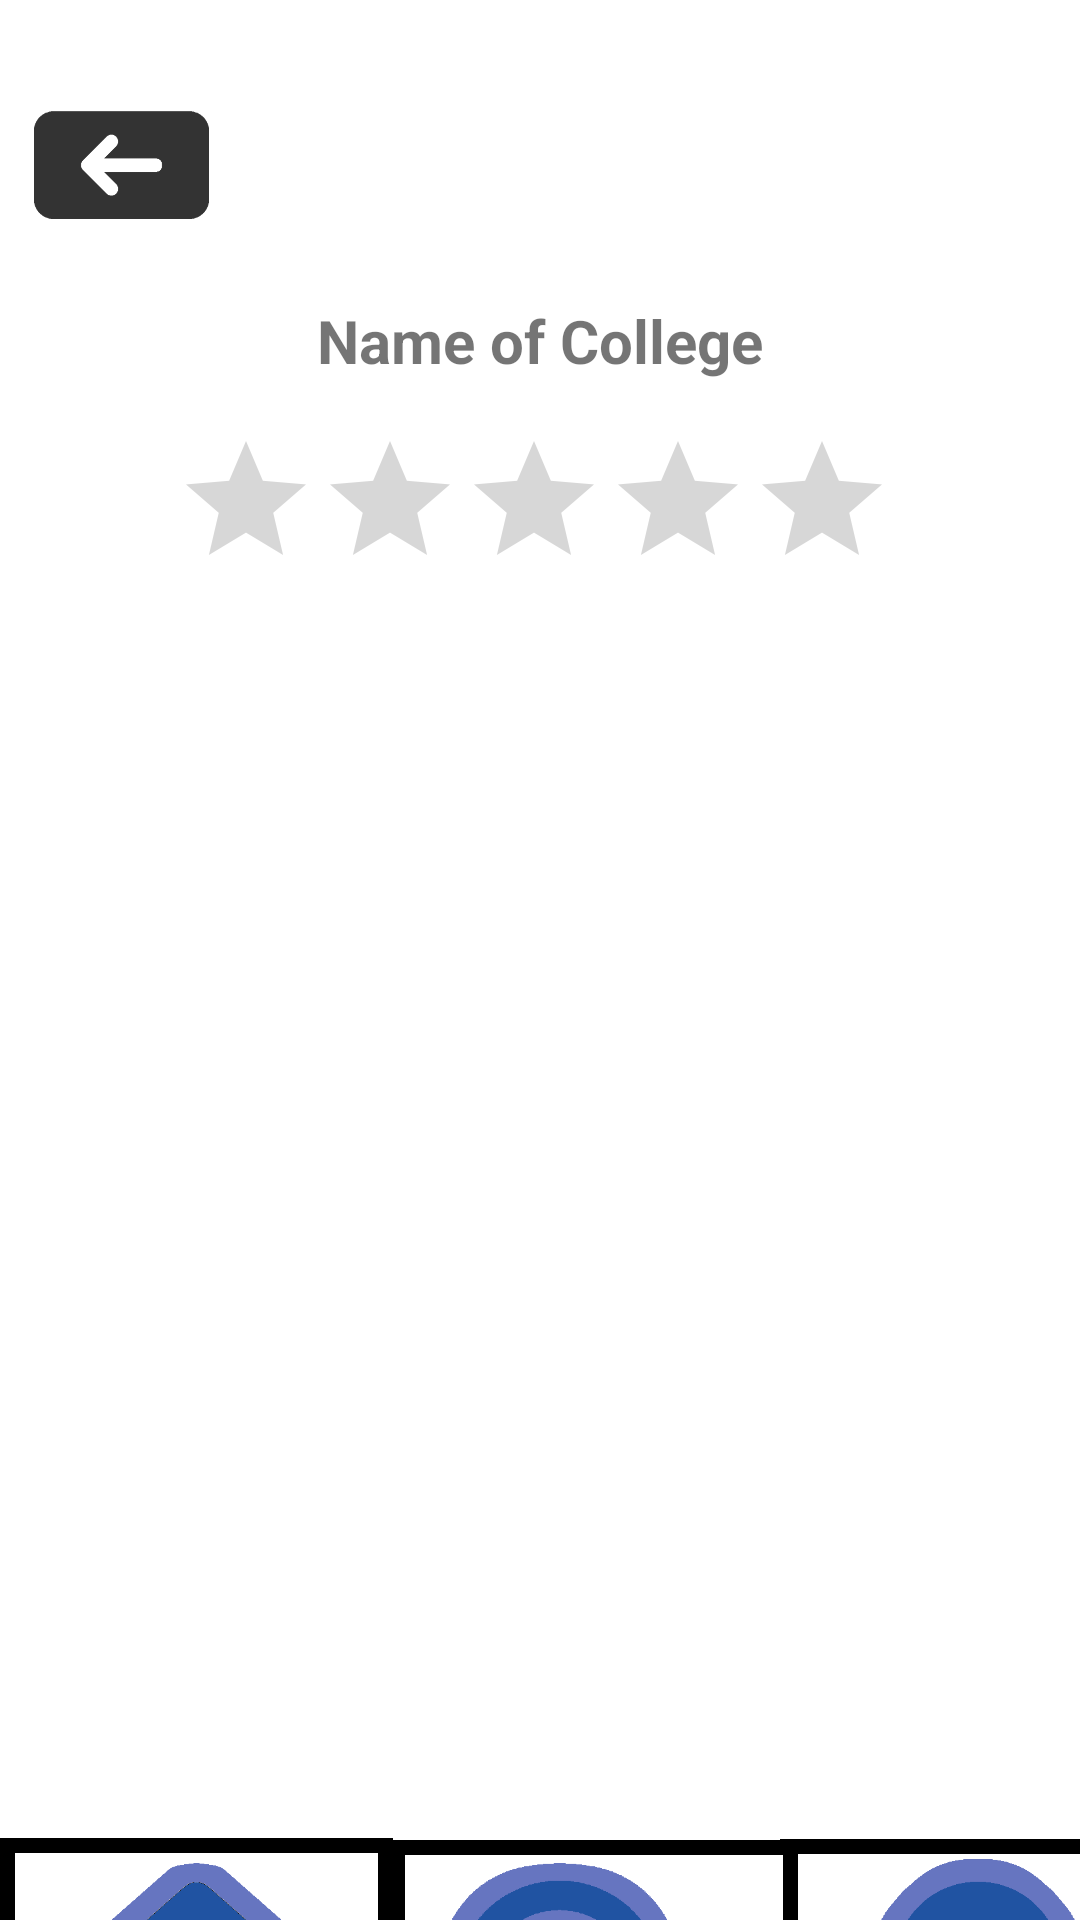

Where to tap for icons on this 1080 × 1920 app screen, as point (x, y):
back: point (121, 165)
